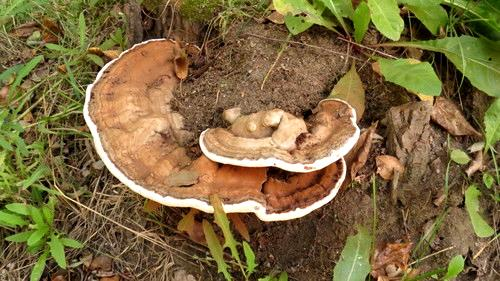Ganoderma - Fruit Body: (86, 36, 361, 220)
